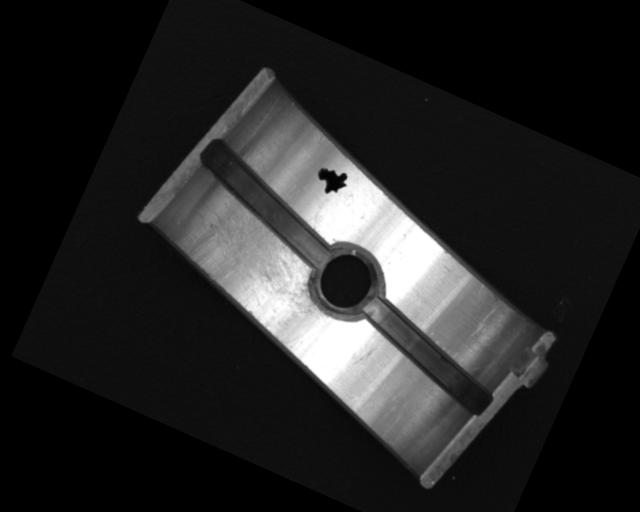blot: (309, 161, 353, 202)
gap: (182, 137, 352, 270), (342, 293, 510, 419)
hole: (299, 230, 394, 330)
nick: (470, 295, 503, 341)
scratch: (155, 184, 355, 363)
